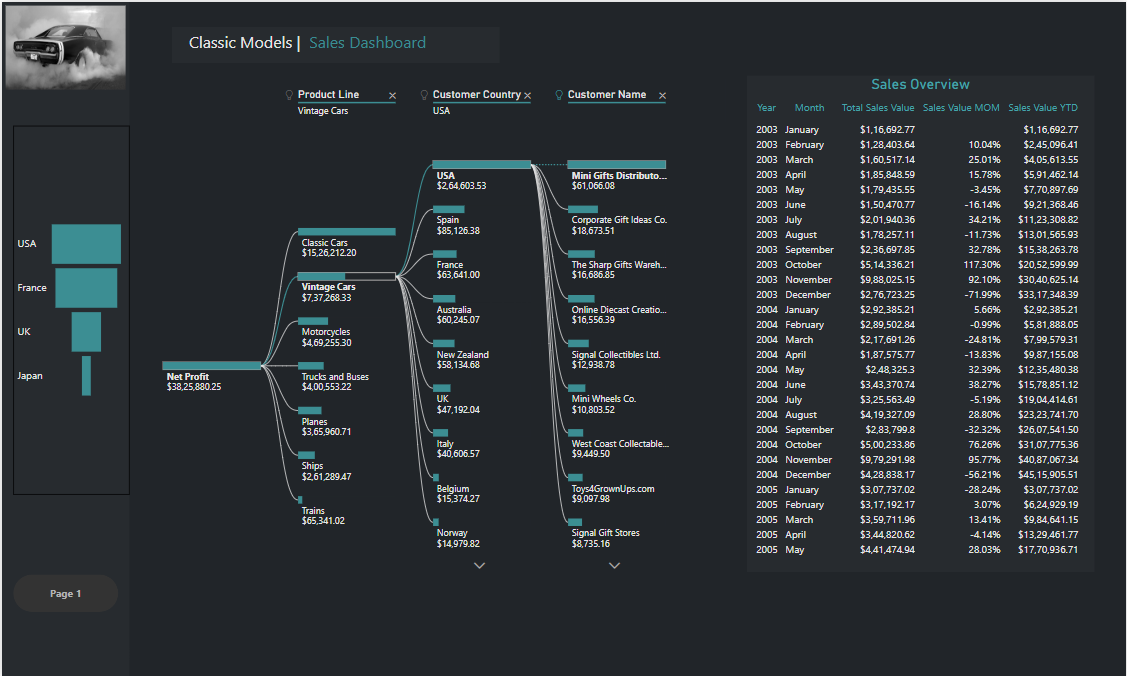

What the dashboard file says about the page in this screenshot:
{"tool":"powerbi","page":{"name":"Sales Overview - Page 2","canvas":[1500,900],"ordinal":1},"visuals":[{"type":"shape","box":[0,0,170,900.5],"z":0},{"type":"decompositionTreeVisual","fields":{"Analyze":["classicmodels sales_data_for_power_bi.Net Profit"],"ExplainBy":["classicmodels sales_data_for_power_bi.productLine","classicmodels sales_data_for_power_bi.customer_country","classicmodels sales_data_for_power_bi.customerName"]},"box":[185,98.3,785,751.7],"z":1000},{"type":"textbox","box":[226.7,33.3,436.7,48.3],"z":2000},{"type":"tableEx","title":"Sales Overview","fields":{"Values":["classicmodels sales_data_for_power_bi.orderdate.Variation.Date Hierarchy.Year","classicmodels sales_data_for_power_bi.orderdate.Variation.Date Hierarchy.Month","Sum(classicmodels sales_data_for_power_bi.sales_value)","classicmodels sales_data_for_power_bi.sales_value MoM%","classicmodels sales_data_for_power_bi.sales_value YTD"]},"box":[993.3,98.3,463.3,661.7],"z":3000},{"type":"actionButton","title":"Sales","box":[15,763.3,140,50],"z":4000},{"type":"image","box":[0,0,170,121.7],"z":5000},{"type":"funnel","fields":{"Category":["classicmodels sales_data_for_power_bi.office_country","classicmodels sales_data_for_power_bi.sales_value"],"Y":["CountNonNull(classicmodels sales_data_for_power_bi.customer_country)"]},"box":[15,165,155,491.7],"z":6000}]}

Visuals, with their boxes on the page's 1500x900 design canvas (x1, y1, x2, y2). These are canvas units, not pixel positions in the 1127x676 screenshot, which may show the page scaled, cropped or inside an application window:
shape: BBox(0, 0, 170, 900)
decompositionTreeVisual - classicmodels sales_data_for_power_bi.Net Profit x classicmodels sales_data_for_power_bi.productLine: BBox(185, 98, 970, 850)
textbox: BBox(227, 33, 663, 82)
"Sales Overview" tableEx: BBox(993, 98, 1457, 760)
"Sales" actionButton: BBox(15, 763, 155, 813)
image: BBox(0, 0, 170, 122)
funnel - classicmodels sales_data_for_power_bi.office_country x classicmodels sales_data_for_power_bi.sales_value: BBox(15, 165, 170, 657)
